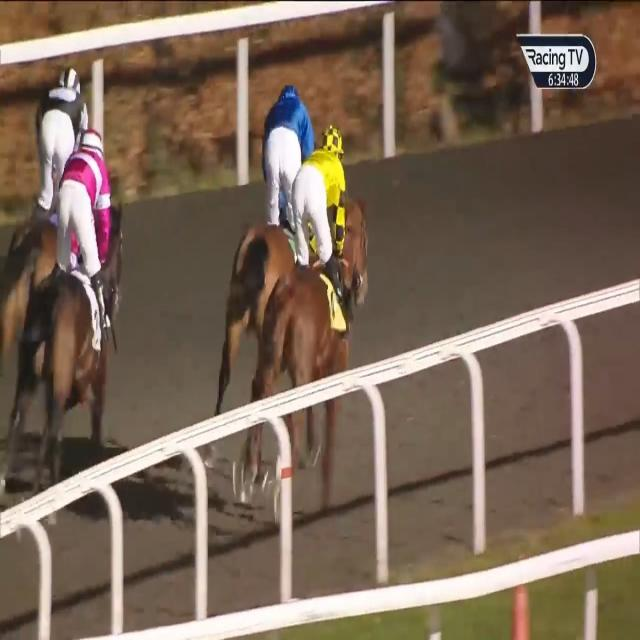horses-racing: (238, 125, 366, 504), (4, 123, 125, 504), (218, 80, 320, 428), (0, 63, 100, 364)
